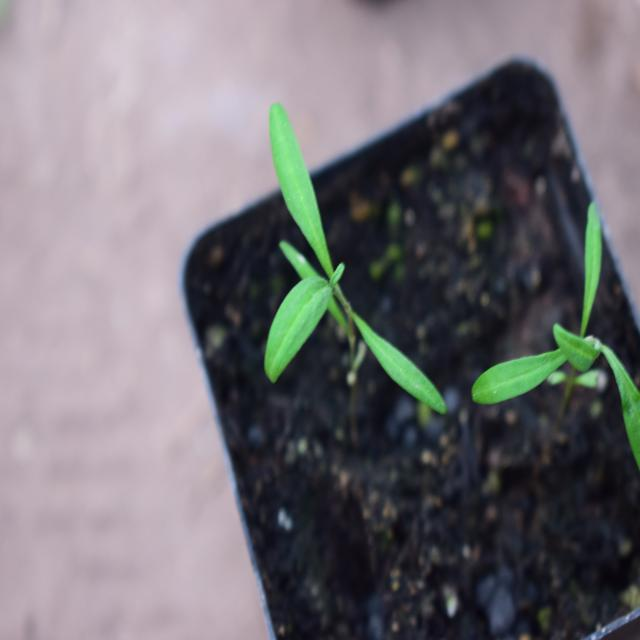white_smart_weed: (254, 104, 460, 448), (469, 198, 640, 440)
